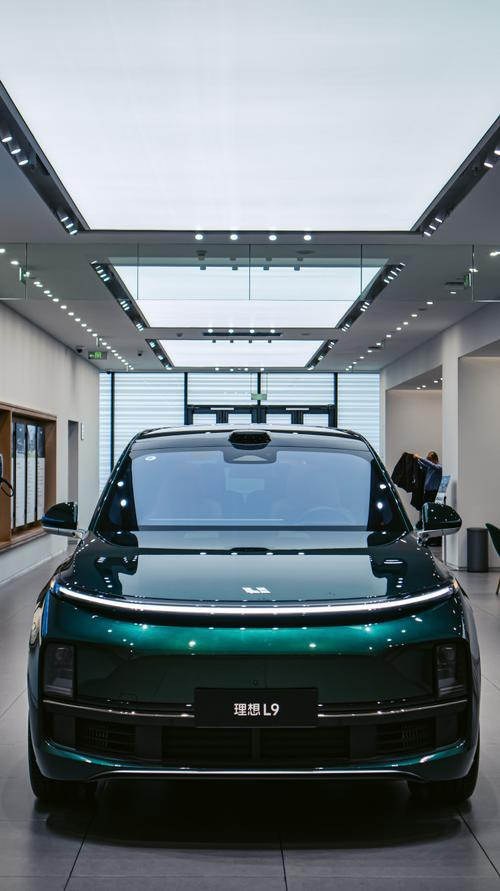Li Auto: (240, 585, 272, 595)
